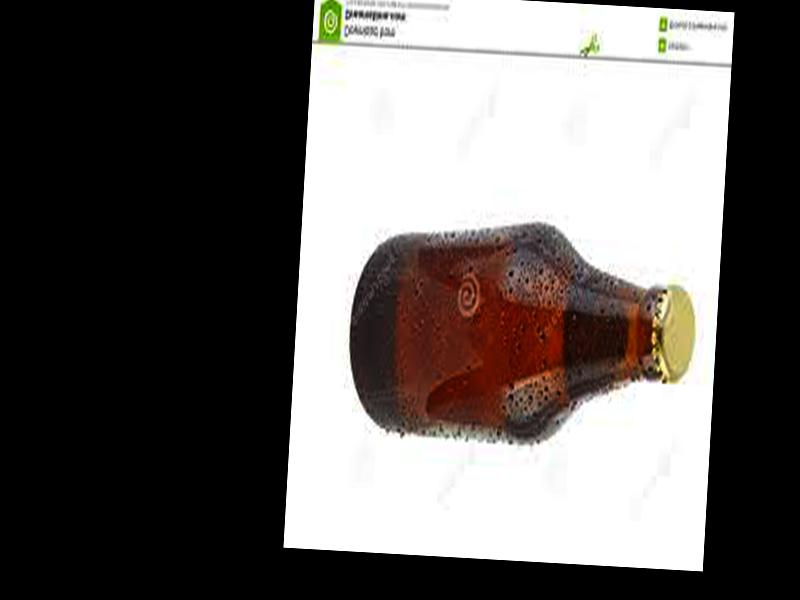Beer: (345, 214, 699, 453)
